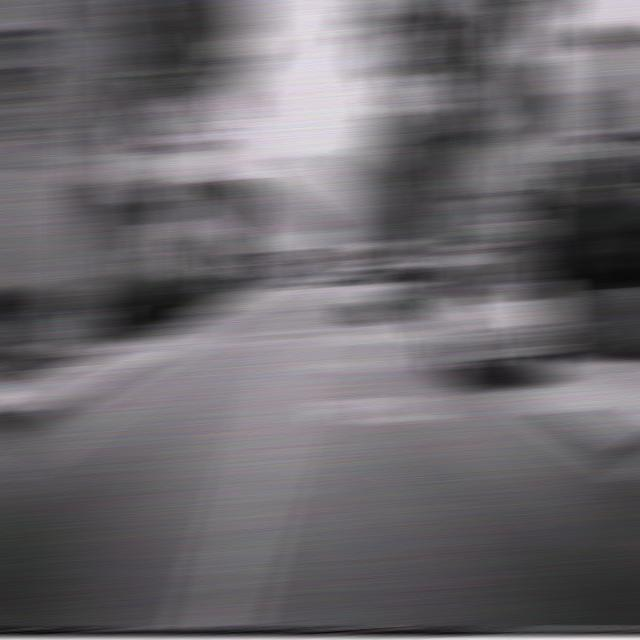pedestrianCrossing: (498, 142, 554, 205)
